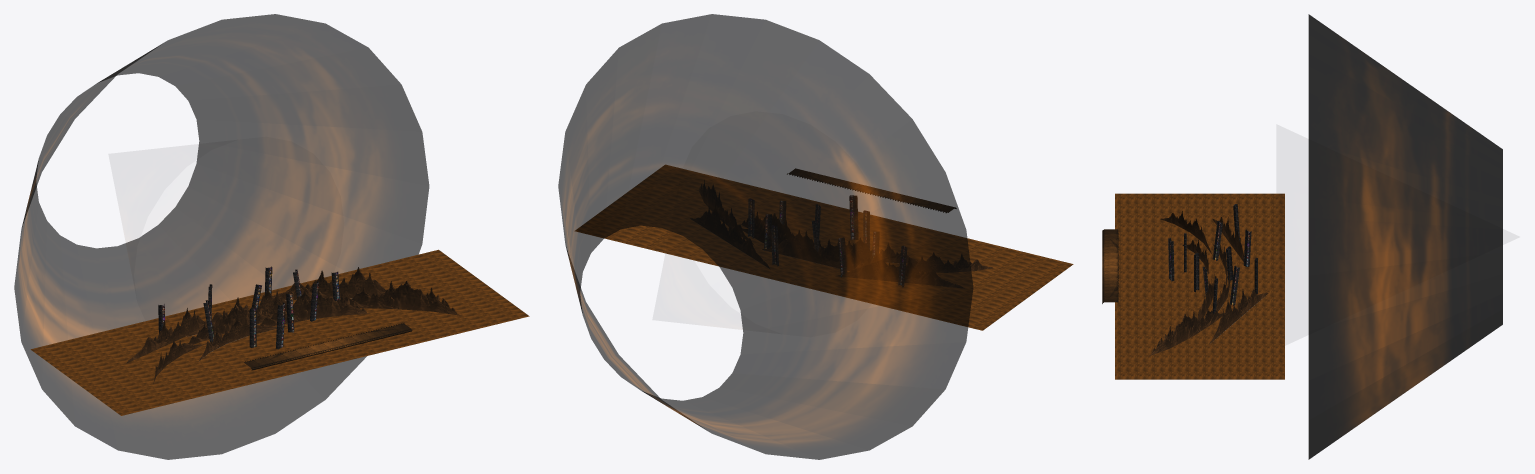
Rendered from UMK3iOSHiddenPortal.glb.
3 views of the same model, side by side, from view 1: azimuth 30°, elevation 25°; view 2: azimuth 150°, elevation 25°; view 3: azimuth 270°, elevation 25° (orthographic). The views are drawn at different scales.
Visible parts, largest first — view 1: 1_Cone002, Plane, 41_mesh93_0.1_0_0.002, 41_mesh93_0.1_0_0, 41_mesh93_0.1_0_0.001, 40_+Ladders_0.1_0_0, 0_sci_floor; view 2: 1_Cone002, Plane, 41_mesh93_0.1_0_0.001, 40_+Ladders_0.1_0_0, 41_mesh93_0.1_0_0, 41_mesh93_0.1_0_0.002, 0_sci_floor; view 3: 1_Cone002, Plane, 41_mesh93_0.1_0_0.002, 40_+Ladders_0.1_0_0, 0_sci_floor, 41_mesh93_0.1_0_0.001, 41_mesh93_0.1_0_0.
Part boxes in pixels (left/top/right/bottom): 1_Cone002: left=14, top=14, right=429, bottom=459; Plane: left=30, top=249, right=529, bottom=415; 41_mesh93_0.1_0_0.002: left=259, top=267, right=459, bottom=317; 41_mesh93_0.1_0_0: left=187, top=288, right=369, bottom=361; 41_mesh93_0.1_0_0.001: left=126, top=304, right=271, bottom=383; 40_+Ladders_0.1_0_0: left=158, top=266, right=339, bottom=349; 0_sci_floor: left=244, top=323, right=412, bottom=370; 1_Cone002: left=558, top=14, right=973, bottom=459; Plane: left=575, top=165, right=1073, bottom=330; 41_mesh93_0.1_0_0.001: left=814, top=241, right=992, bottom=288; 40_+Ladders_0.1_0_0: left=748, top=195, right=906, bottom=287; 41_mesh93_0.1_0_0: left=741, top=212, right=919, bottom=270; 41_mesh93_0.1_0_0.002: left=690, top=180, right=784, bottom=268; 0_sci_floor: left=788, top=168, right=956, bottom=212; 1_Cone002: left=1308, top=14, right=1502, bottom=459; Plane: left=1115, top=193, right=1284, bottom=379; 41_mesh93_0.1_0_0.002: left=1149, top=272, right=1268, bottom=355; 40_+Ladders_0.1_0_0: left=1168, top=204, right=1257, bottom=313; 0_sci_floor: left=1102, top=229, right=1117, bottom=303; 41_mesh93_0.1_0_0.001: left=1160, top=211, right=1248, bottom=286; 41_mesh93_0.1_0_0: left=1183, top=239, right=1216, bottom=320.
Size of the model in its own units: 144 by 144 by 135.
9 materials, 9 textured.
